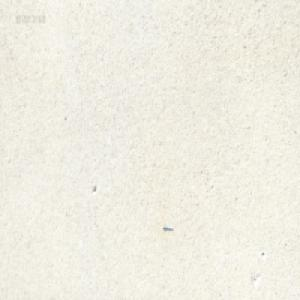Nail: (162, 224, 173, 232)
